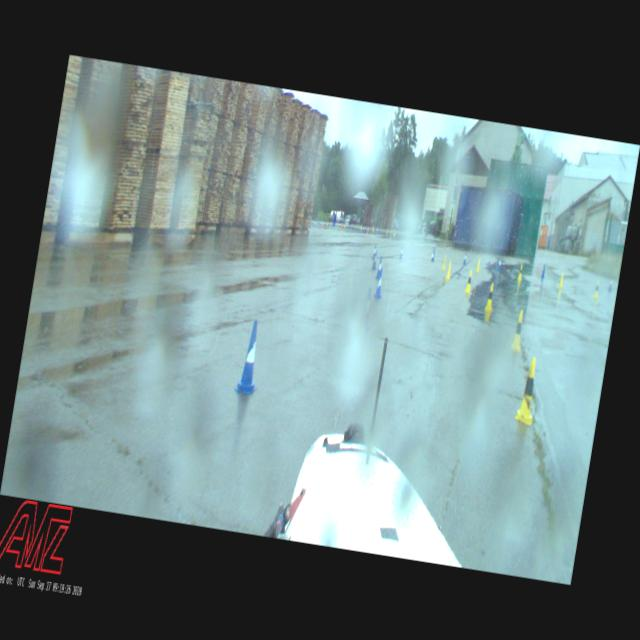blue_cone: (234, 318, 267, 396), (360, 288, 375, 330), (374, 268, 386, 300), (375, 256, 383, 279), (372, 250, 378, 270), (540, 264, 546, 279), (608, 278, 614, 292), (431, 247, 436, 262), (462, 253, 468, 265), (372, 244, 376, 260), (400, 246, 404, 260), (498, 257, 502, 270)
yellow_cone: (514, 356, 543, 426), (510, 309, 527, 353), (484, 282, 496, 312), (464, 270, 474, 294), (593, 280, 601, 300), (446, 261, 453, 280), (441, 254, 448, 272), (518, 264, 524, 282), (558, 272, 564, 288), (476, 258, 482, 274)
